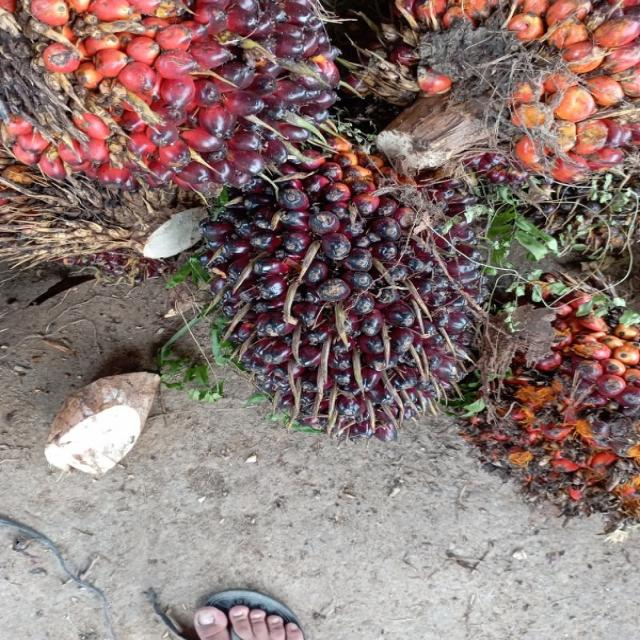fraksi 1: (200, 133, 480, 447)
fraksi 3: (0, 0, 338, 196), (373, 0, 640, 192), (483, 296, 640, 529)
